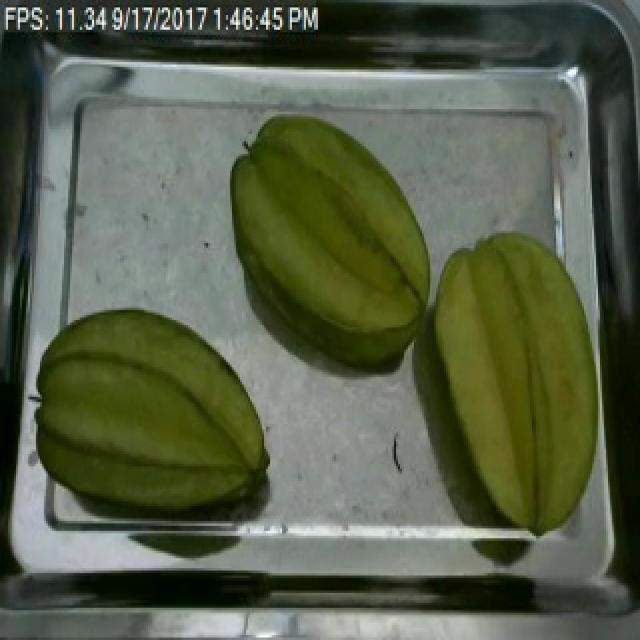fruit: (420, 226, 620, 543), (26, 300, 280, 524), (220, 106, 442, 350)
